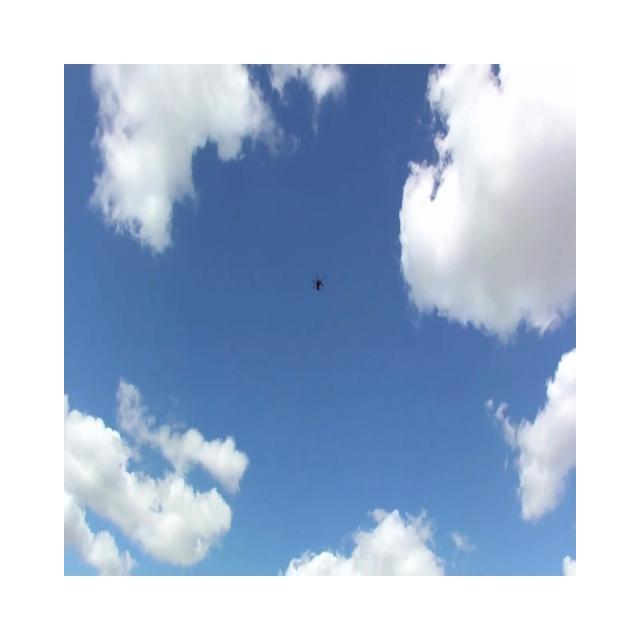drone: (312, 272, 324, 292)
